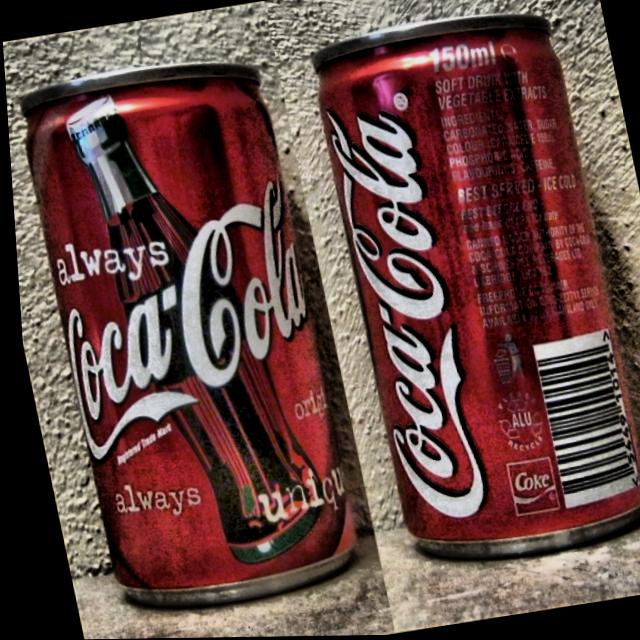Cans: (1, 20, 380, 640)
